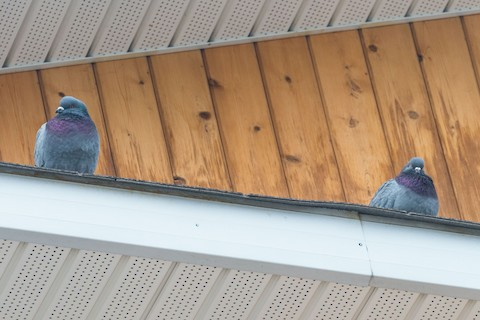pigeon: (31, 93, 101, 181), (365, 156, 444, 228)
